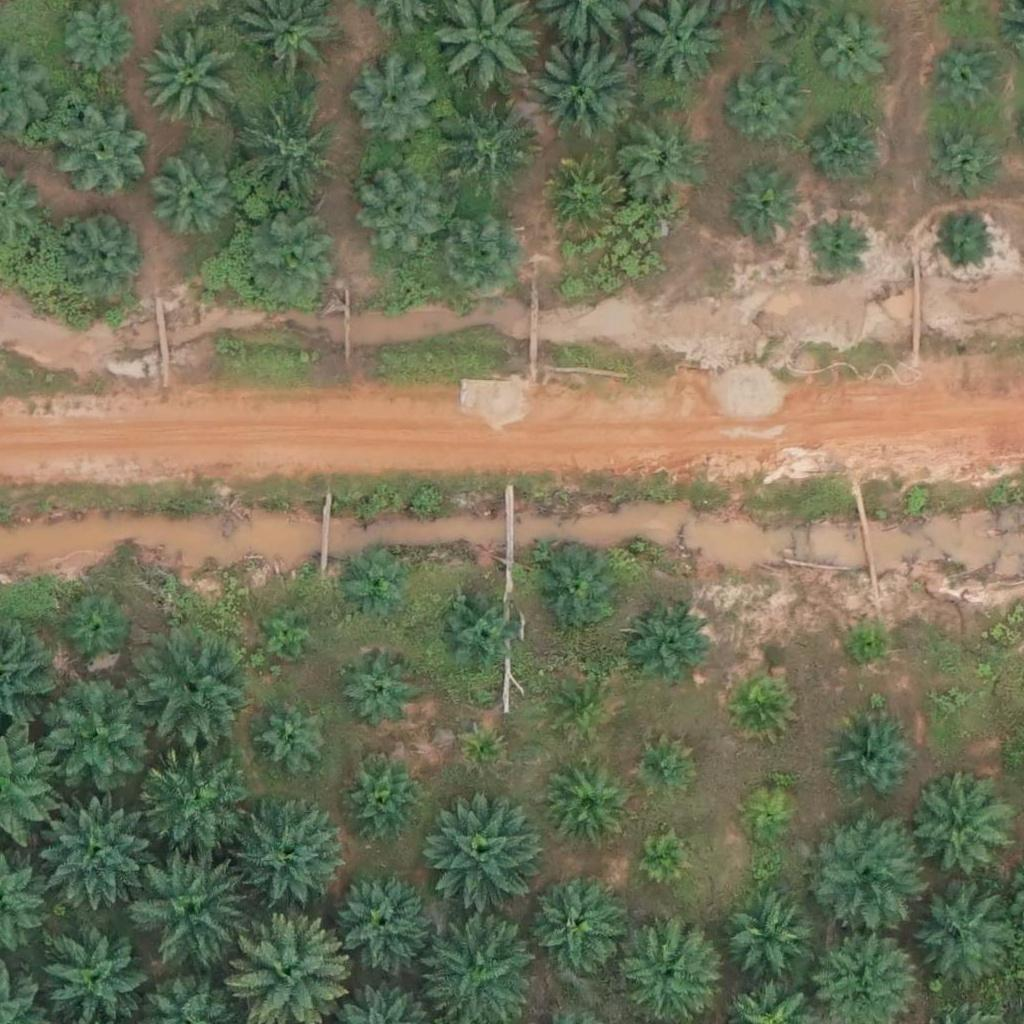Kelapa_Sawit: (427, 791, 540, 905), (39, 796, 152, 910), (141, 751, 254, 864), (133, 634, 246, 747), (39, 679, 152, 792), (528, 34, 641, 147), (807, 814, 919, 928), (132, 856, 244, 970), (237, 799, 349, 912), (228, 103, 340, 216), (914, 782, 1014, 883), (335, 872, 435, 973), (435, 96, 535, 197), (141, 29, 241, 130), (915, 889, 1015, 989), (527, 874, 627, 974), (246, 216, 346, 316), (50, 96, 150, 196), (827, 711, 915, 799), (725, 892, 813, 980), (433, 588, 521, 676), (339, 755, 427, 843), (916, 116, 1004, 204), (535, 154, 623, 242), (347, 60, 435, 148), (61, 204, 149, 292), (358, 167, 445, 256), (534, 544, 621, 632), (543, 759, 630, 847), (926, 35, 1013, 123), (620, 121, 707, 209), (436, 213, 523, 301), (153, 157, 240, 245), (630, 612, 705, 688), (339, 654, 414, 730), (809, 18, 884, 94), (811, 106, 886, 182), (729, 73, 804, 148), (727, 173, 802, 248), (341, 551, 404, 614), (63, 599, 126, 662), (730, 672, 793, 735), (800, 214, 863, 277), (262, 706, 324, 769), (933, 210, 995, 273), (553, 678, 615, 741), (740, 791, 790, 842), (642, 834, 692, 884), (637, 742, 687, 792), (264, 611, 314, 661), (846, 626, 883, 664), (461, 727, 498, 764), (935, 689, 960, 715)
